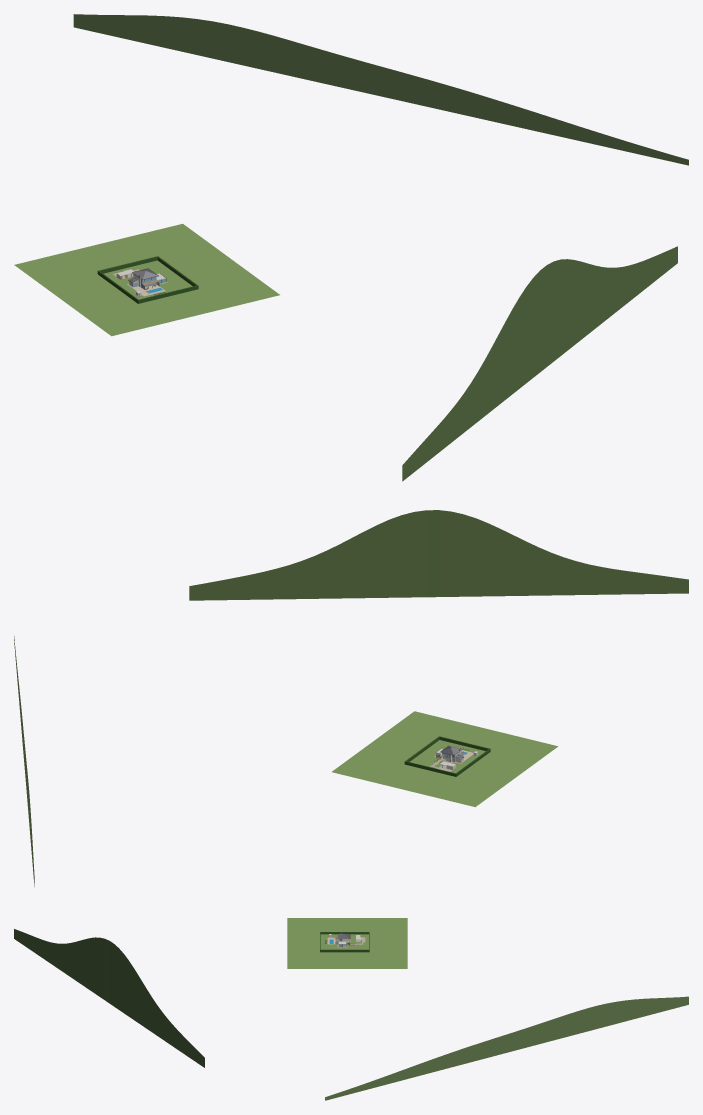
3 renders of one model, top to bottom at view 1: azimuth 30°, elevation 25°; view 2: azimuth 150°, elevation 25°; view 3: azimuth 270°, elevation 25°, orthographic. The views are drawn at different scales.
Visible parts, largest first — view 1: Z_far, Z_ground; view 2: Z_far, Z_ground; view 3: Z_far, Z_ground.
Boxes of the visible parts, x1=… form: Z_far: x1=14, y1=14, x2=688, y2=481; Z_ground: x1=98, y1=256, x2=197, y2=300; Z_far: x1=14, y1=510, x2=688, y2=886; Z_ground: x1=405, y1=736, x2=490, y2=773; Z_far: x1=14, y1=918, x2=688, y2=1100; Z_ground: x1=320, y1=932, x2=369, y2=949.
Size of the model in its own units: 504 by 82.18 by 786.
